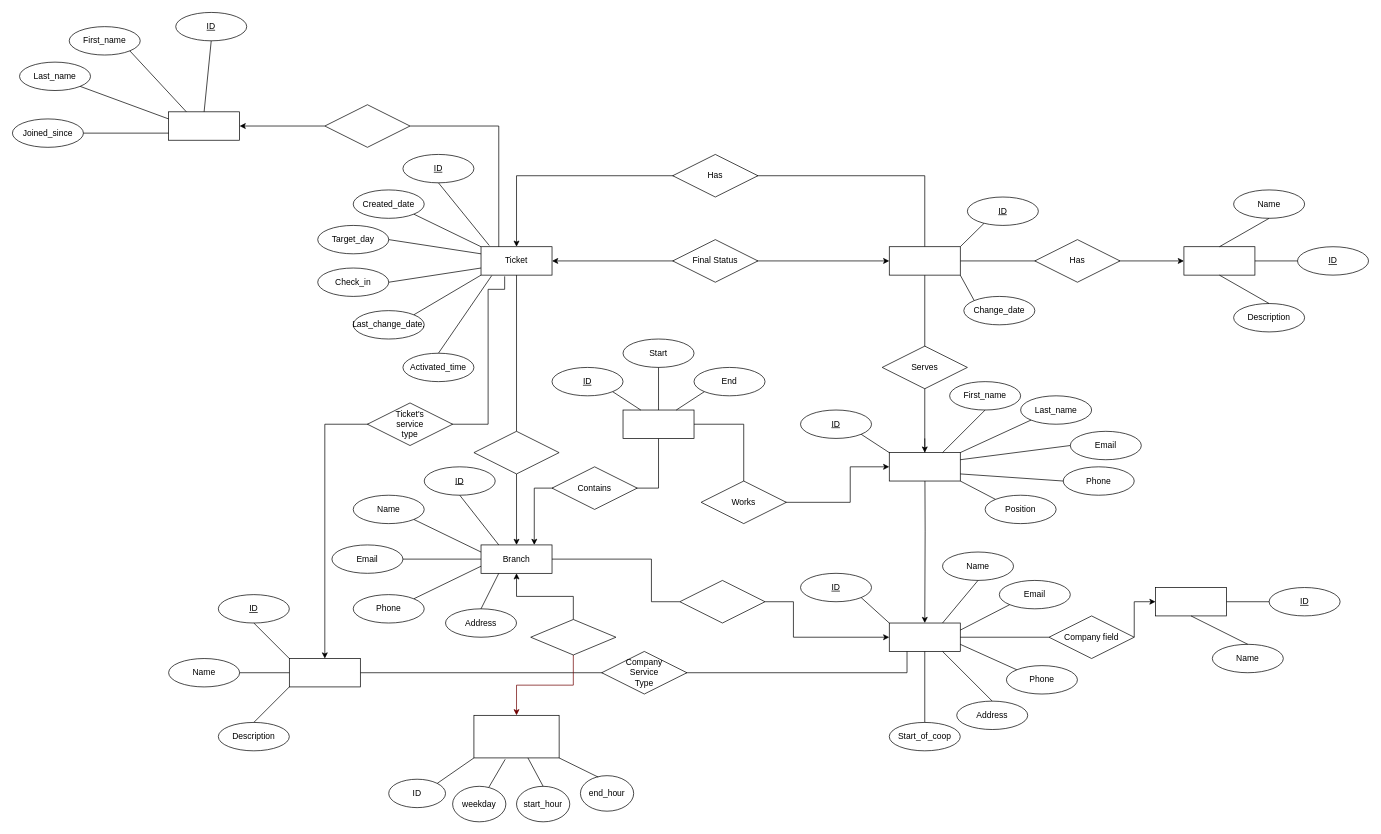
This 1381x834 diagram has some shape labels left out. The shapes that lost their labels are listed below. From the top down, each one's centre as x and y in pixels, then its label:
At (204,125): "User".
At (367,125): "Book".
At (924,260): "Ticket Logs".
At (1219,260): "Ticket Status".
At (658,423): "Employees' Schedules".
At (516,452): "Location".
At (924,466): "Employees".
At (722,601): "Belongs to".
At (1191,601): "Field".
At (573,637): "Open".
At (924,636): "Company".
At (324,672): "Service Type".
At (516,736): "Interval".
